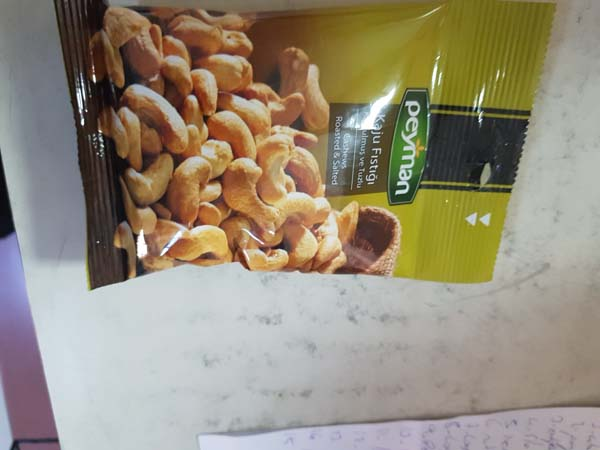kajupeyman: (49, 1, 562, 284)
